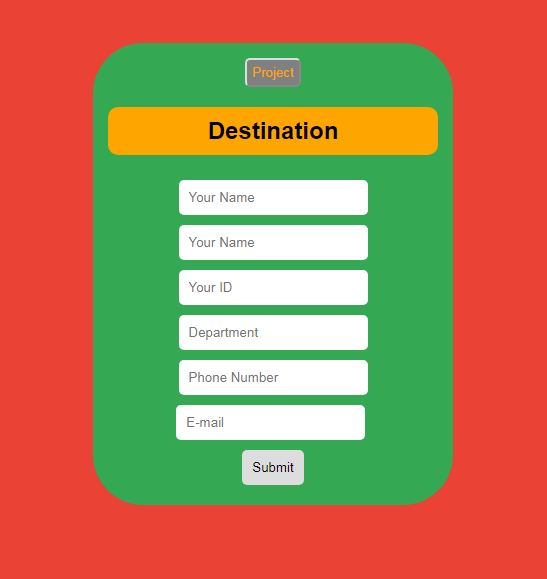button: (239, 448, 306, 486)
field: (176, 313, 370, 352), (174, 403, 367, 442), (176, 179, 370, 217), (177, 224, 369, 262), (177, 269, 370, 306), (177, 359, 370, 396)
